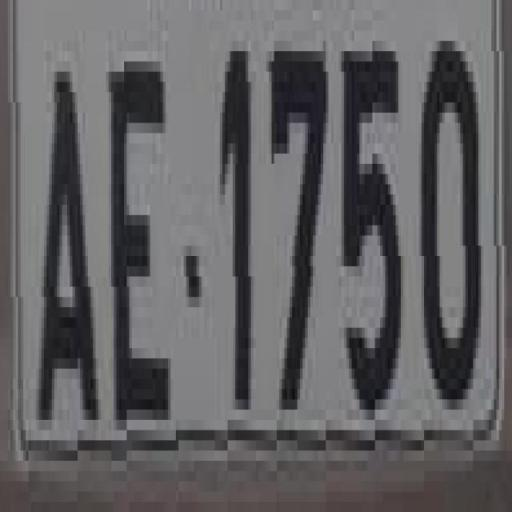number plate: (13, 0, 512, 471)
